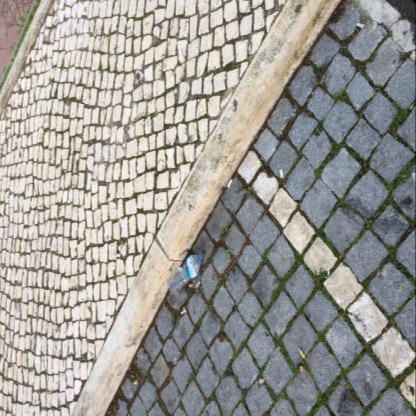Bottle cap: (168, 251, 204, 294)
Cigarette: (299, 348, 306, 359), (227, 178, 233, 188), (281, 124, 287, 131), (180, 310, 186, 316), (280, 169, 284, 178), (190, 284, 194, 288)
